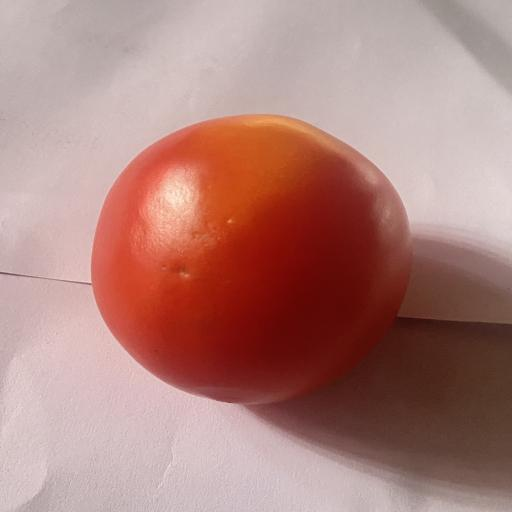ripe: (91, 115, 411, 404)
